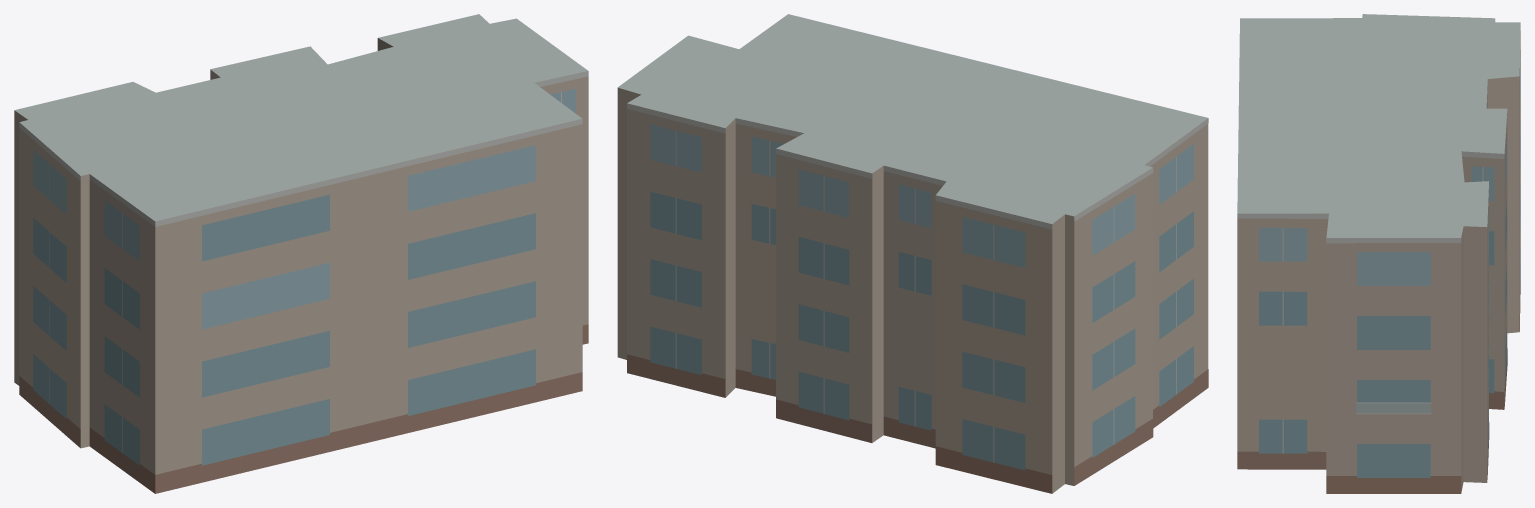
File: survey-upis-32823789.glb
3 renders of one model, left to right at view 1: azimuth 30°, elevation 25°; view 2: azimuth 150°, elevation 25°; view 3: azimuth 270°, elevation 25°, orthographic. The views are drawn at different scales.
Parts seen in each view (by area): view 1: survey-upis-32823789.tmp; view 2: survey-upis-32823789.tmp; view 3: survey-upis-32823789.tmp.
Boxes of the visible parts, x1,y1,x2,y2 form: survey-upis-32823789.tmp: [14, 14, 588, 493]; survey-upis-32823789.tmp: [617, 14, 1208, 493]; survey-upis-32823789.tmp: [1237, 14, 1520, 493].
Size of the model in its own units: 22.76 by 12.1 by 12.15.
